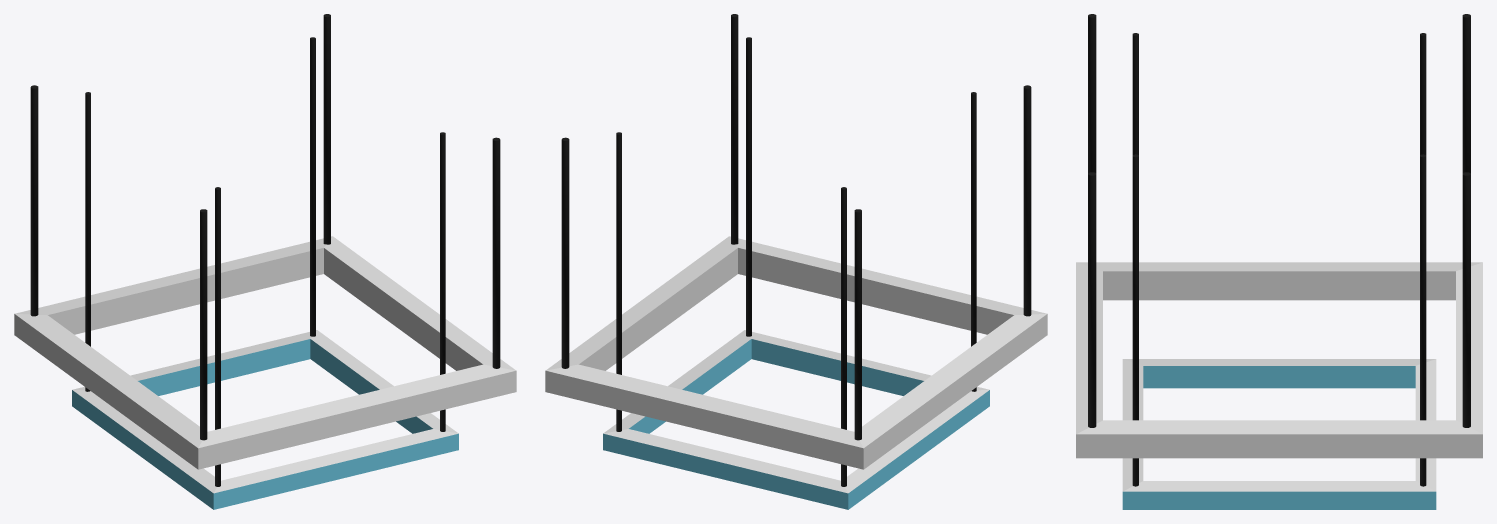
The model's file is Avize.fbx.
3 views of the same model, side by side, from view 1: azimuth 30°, elevation 25°; view 2: azimuth 150°, elevation 25°; view 3: azimuth 270°, elevation 25° (orthographic). The views are drawn at different scales.
Parts seen in each view (by area): view 1: Avize; view 2: Avize; view 3: Avize.
Boxes of the visible parts, x1=… form: Avize: x1=14, y1=14, x2=516, y2=509; Avize: x1=545, y1=14, x2=1047, y2=509; Avize: x1=1076, y1=14, x2=1482, y2=509.
Size of the model in its own units: 387 by 368 by 387.
